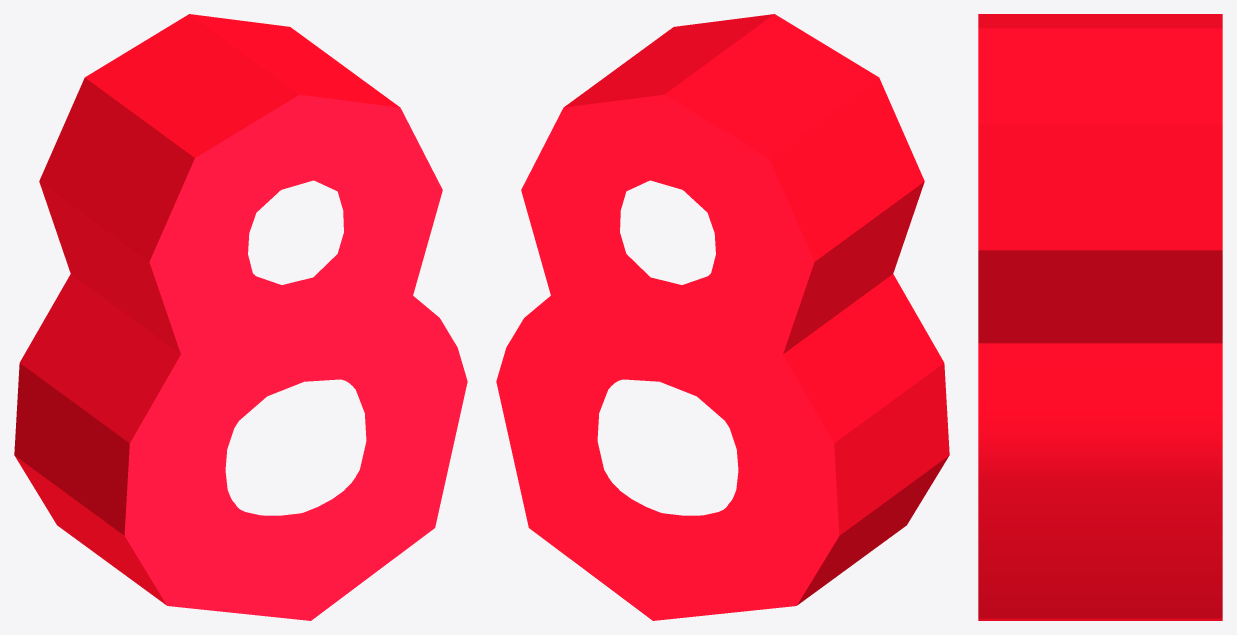
3 views of the same model, side by side, from view 1: azimuth 30°, elevation 25°; view 2: azimuth 150°, elevation 25°; view 3: azimuth 270°, elevation 25° (orthographic). The views are drawn at different scales.
Parts seen in each view (by area): view 1: 8_Zyzol_Red; view 2: 8_Zyzol_Red; view 3: 8_Zyzol_Red.
Part boxes in pixels (bbox=[...]): 8_Zyzol_Red: bbox=[14, 14, 467, 620]; 8_Zyzol_Red: bbox=[496, 14, 949, 620]; 8_Zyzol_Red: bbox=[978, 14, 1222, 620].
Size of what is drawn, in the model's own units: 0.0809 by 0.1192 by 0.045.
Materials: 2 (2 with a texture image).
